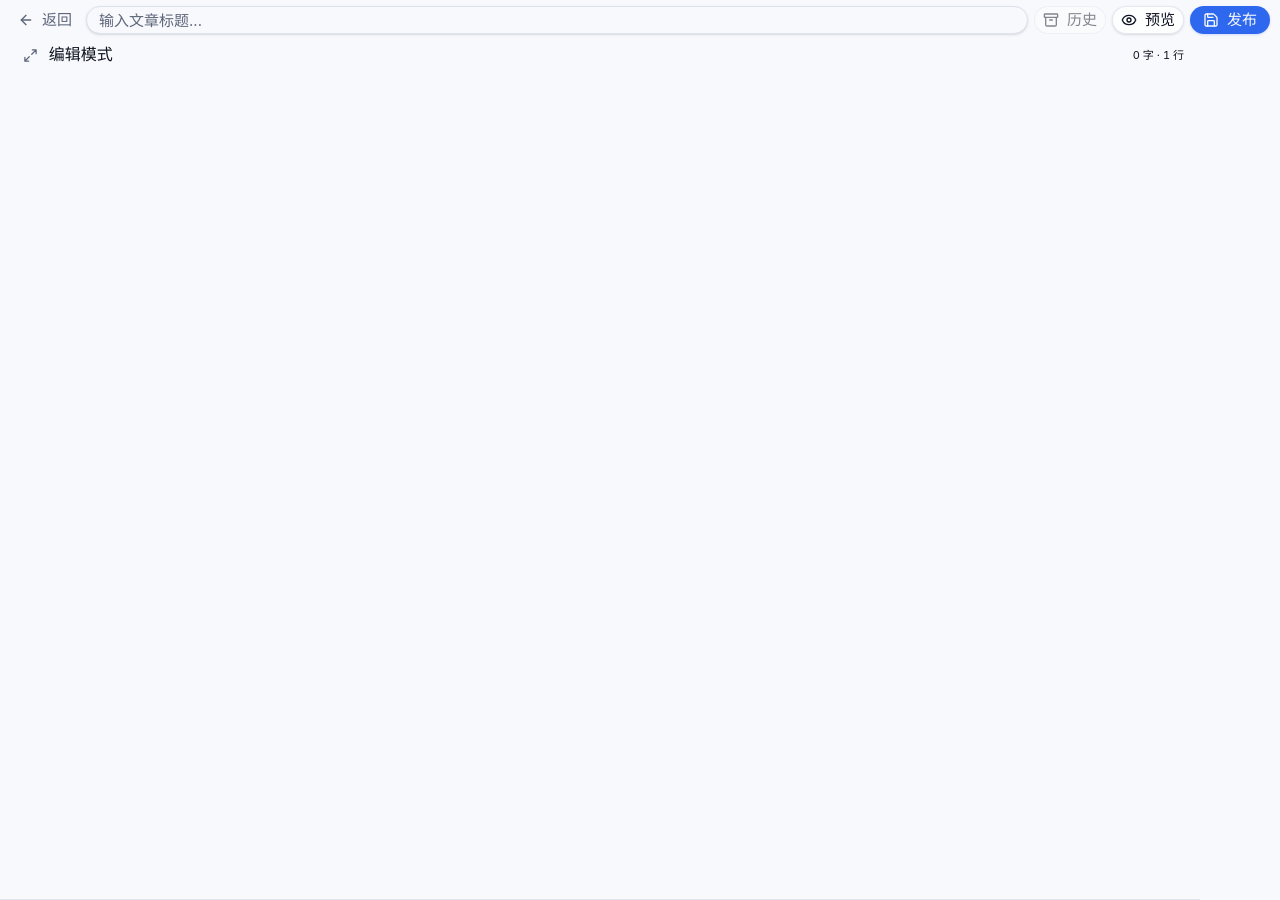
BlogEditor 核心回归 › 新文章打开历史时会先同步工作副本
This screenshot has width=1280, height=900.
Type "新文章" into the field with placeholder "输入文章标题..." at (557, 20), box x1=86 y1=6 x2=1028 y2=34
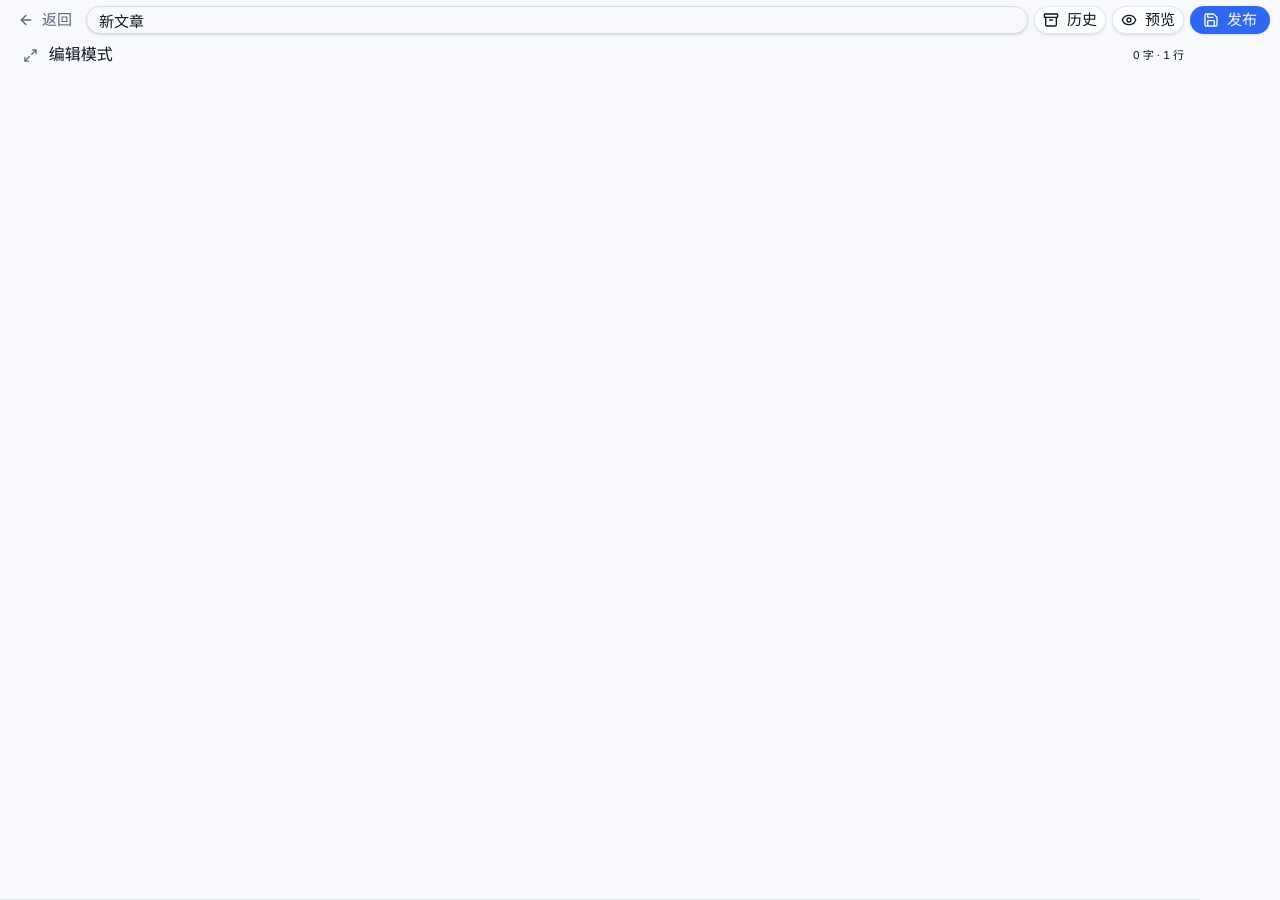
Click the button "历史" at (1070, 20), box x1=1034 y1=6 x2=1106 y2=34
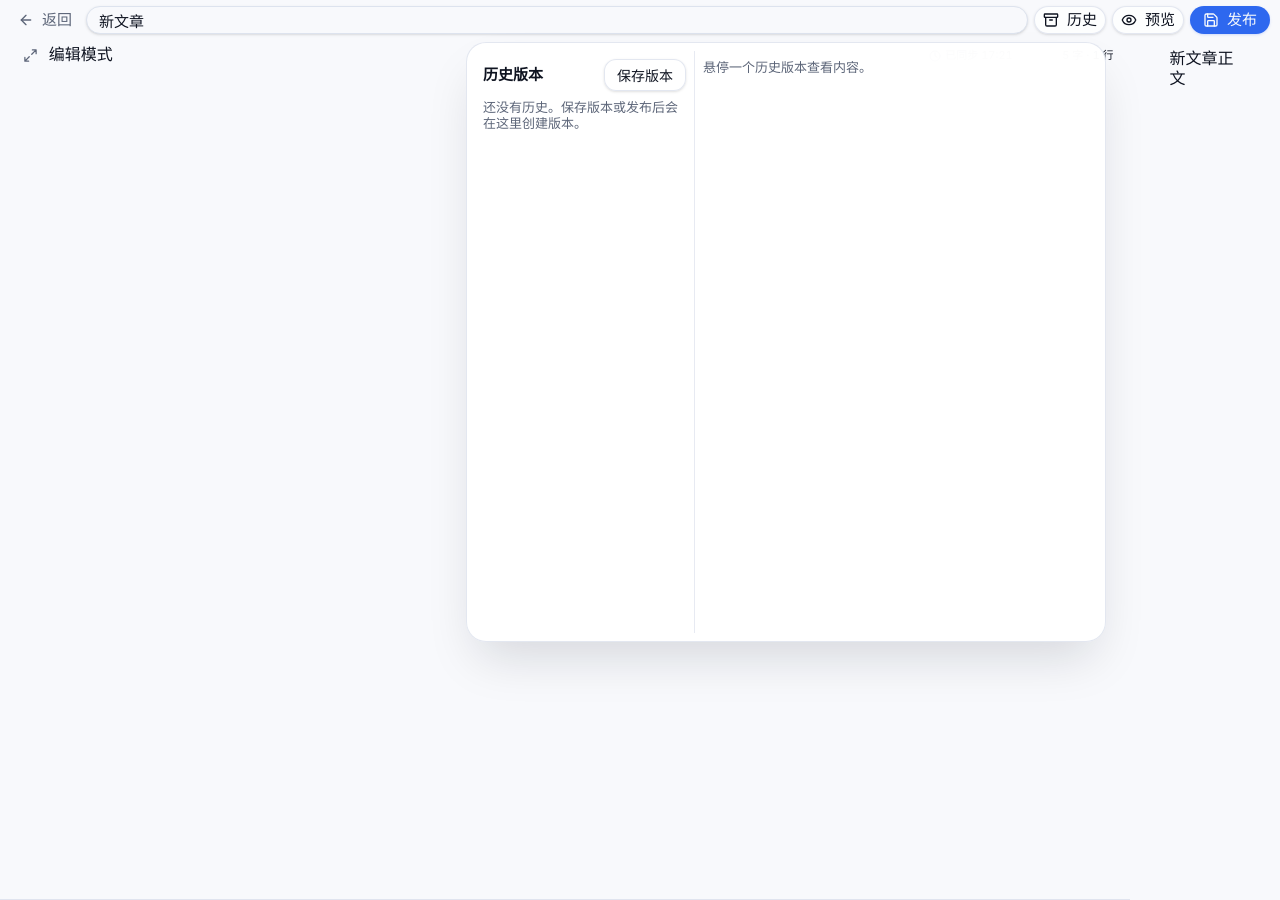
Expected: the button "保存版本" is shown, x1=604 y1=59 x2=686 y2=91
